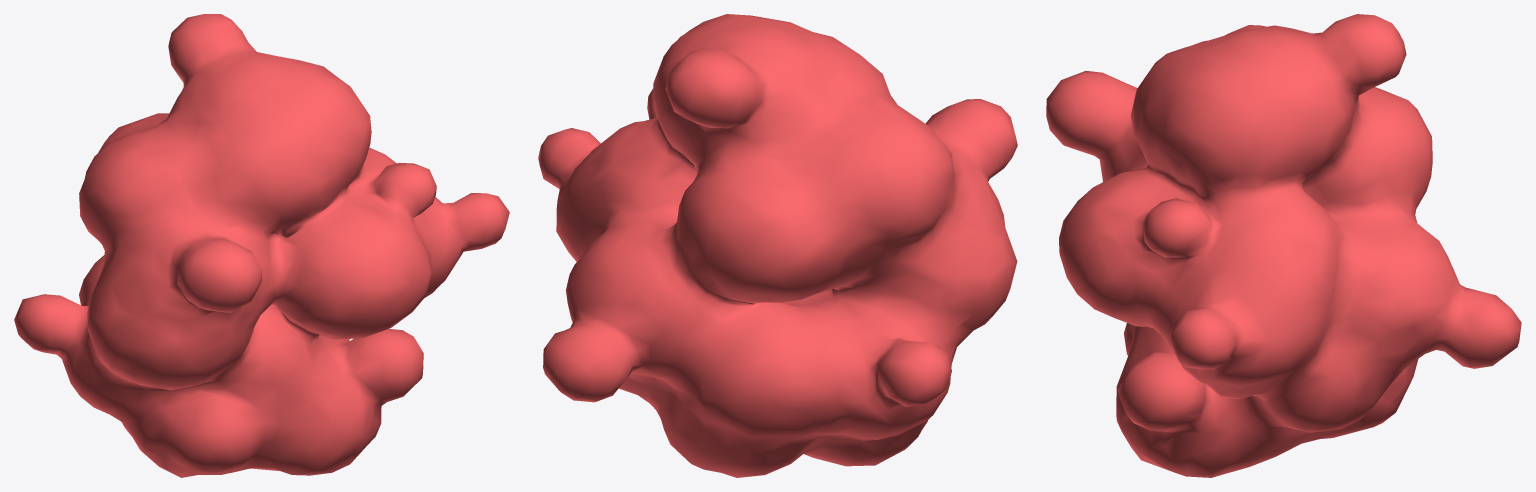
The model's file is cotton-candy-close.glb.
The picture shows the model from 3 angles, left to right: view 1: azimuth 30°, elevation 25°; view 2: azimuth 150°, elevation 25°; view 3: azimuth 270°, elevation 25°; orthographic projection. The views are drawn at different scales.
Visible parts, largest first — view 1: cotton-candy-close floss shell 2; view 2: cotton-candy-close floss shell 2; view 3: cotton-candy-close floss shell 2.
Part boxes in pixels (x1=…): cotton-candy-close floss shell 2: x1=14, y1=14, x2=509, y2=477; cotton-candy-close floss shell 2: x1=538, y1=14, x2=1017, y2=477; cotton-candy-close floss shell 2: x1=1046, y1=14, x2=1521, y2=477.
Bounding box in the file's own units: 2.35 × 2.03 × 2.08.
